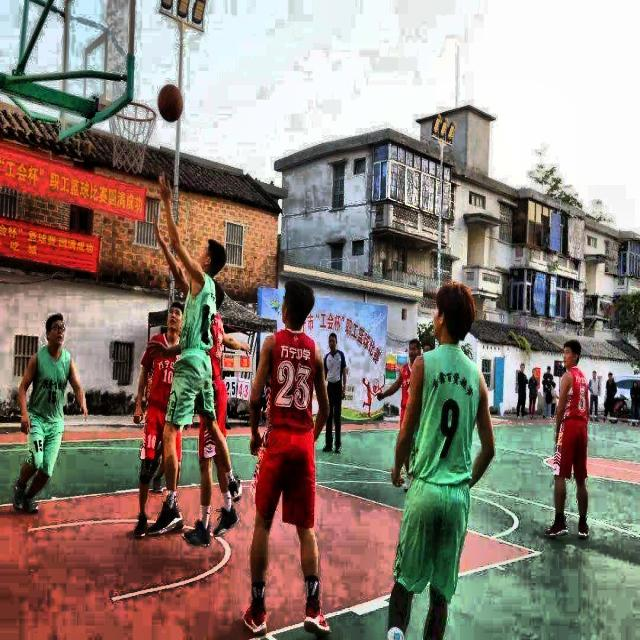rim: (110, 100, 157, 170)
